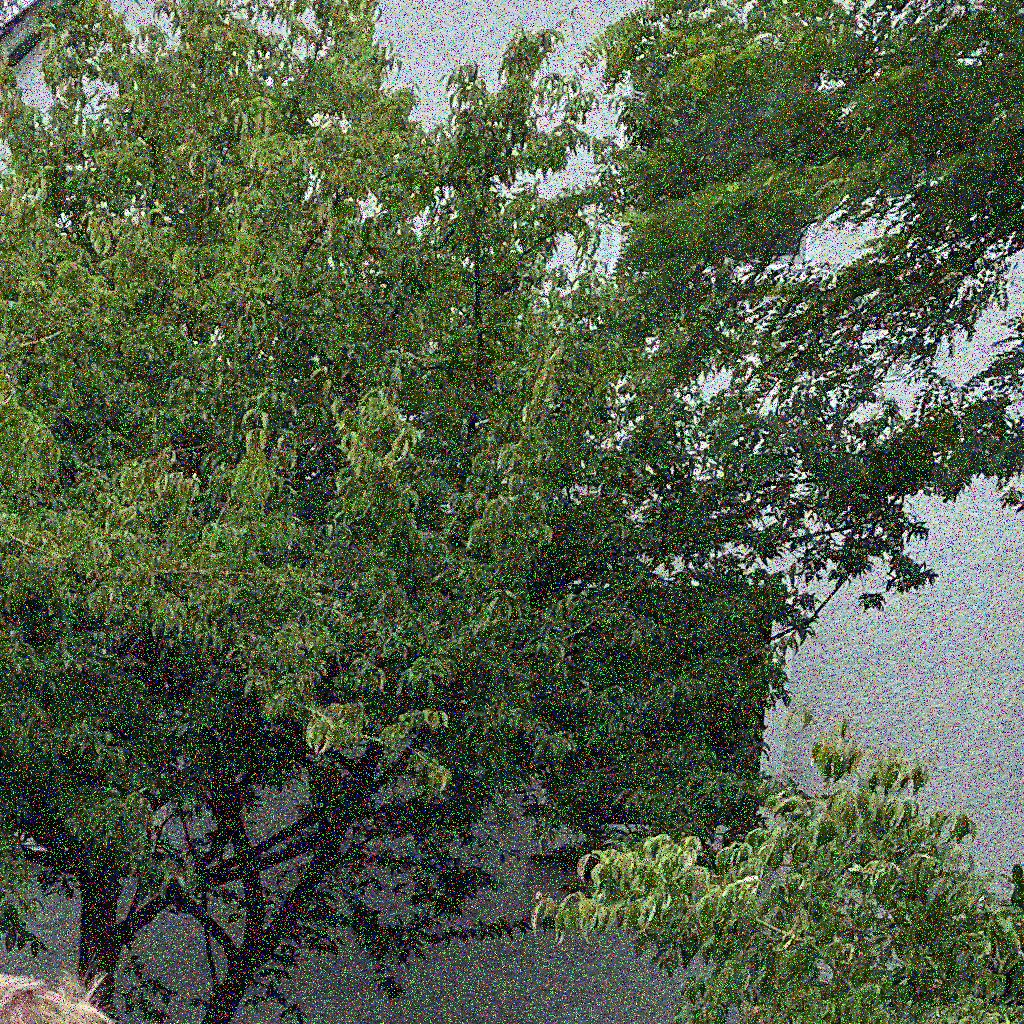tree: (1, 1, 939, 1023), (580, 1, 1024, 707)
